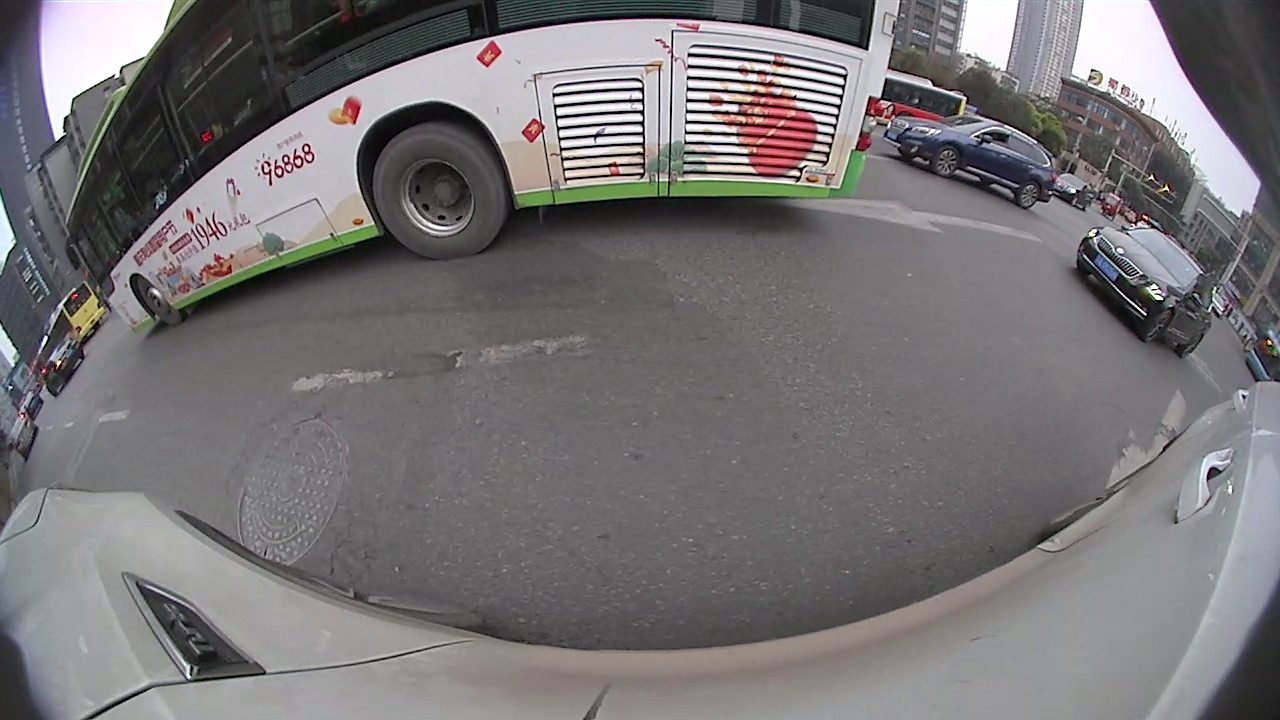bus: (61, 1, 886, 345), (876, 74, 973, 129), (43, 278, 107, 344)
car: (1074, 224, 1215, 361), (885, 113, 1058, 208), (38, 338, 86, 400)
front: (130, 274, 189, 327), (1141, 309, 1177, 344), (930, 143, 963, 180)
rear: (367, 119, 511, 262), (1012, 180, 1045, 210)
